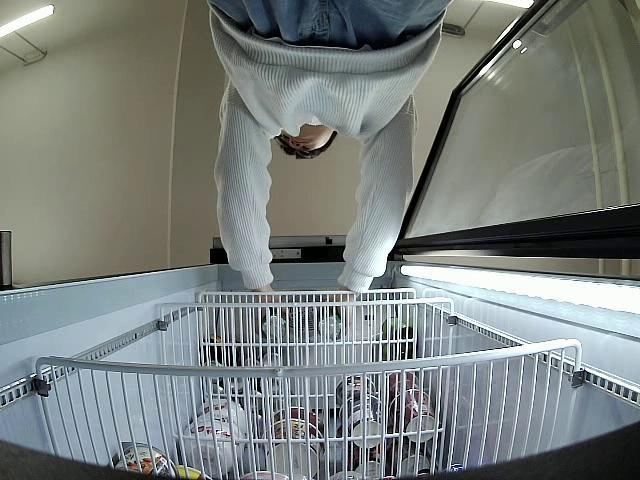18_trevi: (318, 314, 342, 342), (262, 316, 285, 338)
